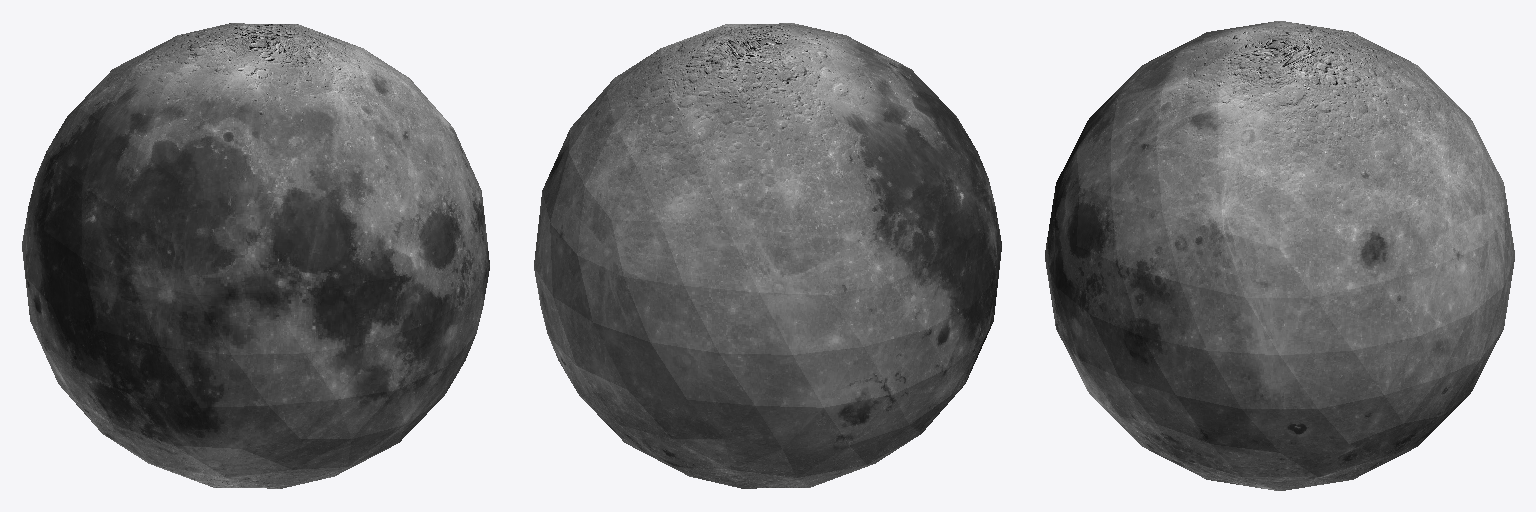
3 renders of one model, left to right at view 1: azimuth 30°, elevation 25°; view 2: azimuth 150°, elevation 25°; view 3: azimuth 270°, elevation 25°, orthographic.
Parts seen in each view (by area): view 1: Mesh; view 2: Mesh; view 3: Mesh.
Part boxes in pixels (bbox=[...]): Mesh: bbox=[22, 23, 489, 488]; Mesh: bbox=[534, 23, 1001, 488]; Mesh: bbox=[1045, 21, 1514, 490].
Size of the model in its own units: 2 by 2 by 2.
Materials: 1 (1 with a texture image).